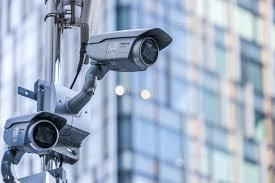tutu: (76, 27, 181, 86), (2, 100, 69, 162)
